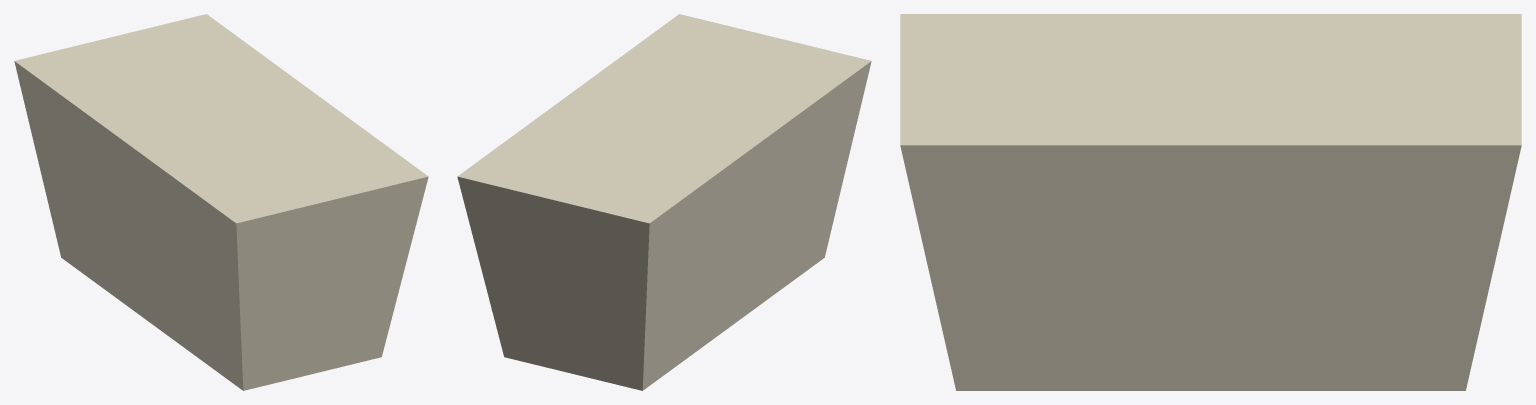
File: wk_skeleton_foot_v01.glb
The picture shows the model from 3 angles, left to right: view 1: azimuth 30°, elevation 25°; view 2: azimuth 150°, elevation 25°; view 3: azimuth 270°, elevation 25°; orthographic projection. The views are drawn at different scales.
Parts seen in each view (by area): view 1: GEO_Skeleton_foot; view 2: GEO_Skeleton_foot; view 3: GEO_Skeleton_foot.
Boxes of the visible parts, bbox=[...] form: GEO_Skeleton_foot: bbox=[14, 14, 428, 390]; GEO_Skeleton_foot: bbox=[457, 14, 871, 390]; GEO_Skeleton_foot: bbox=[900, 14, 1521, 390].
Bounding box in the file's own units: 0.08 × 0.075 × 0.16.
